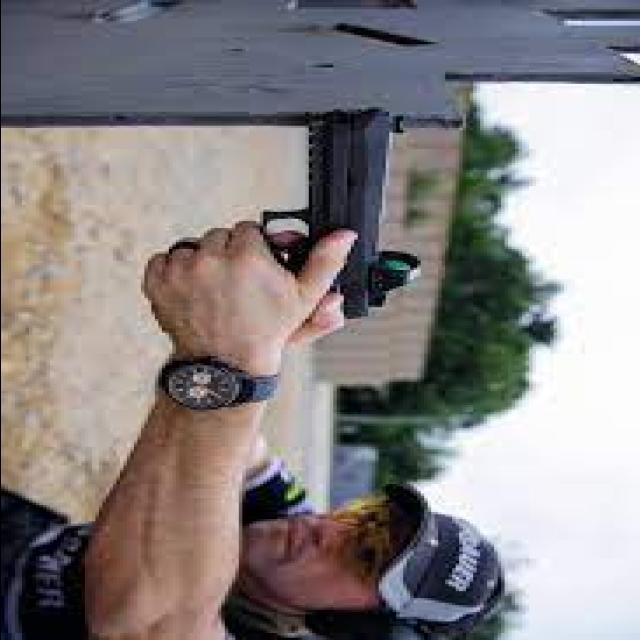weapons: (208, 99, 448, 335)
